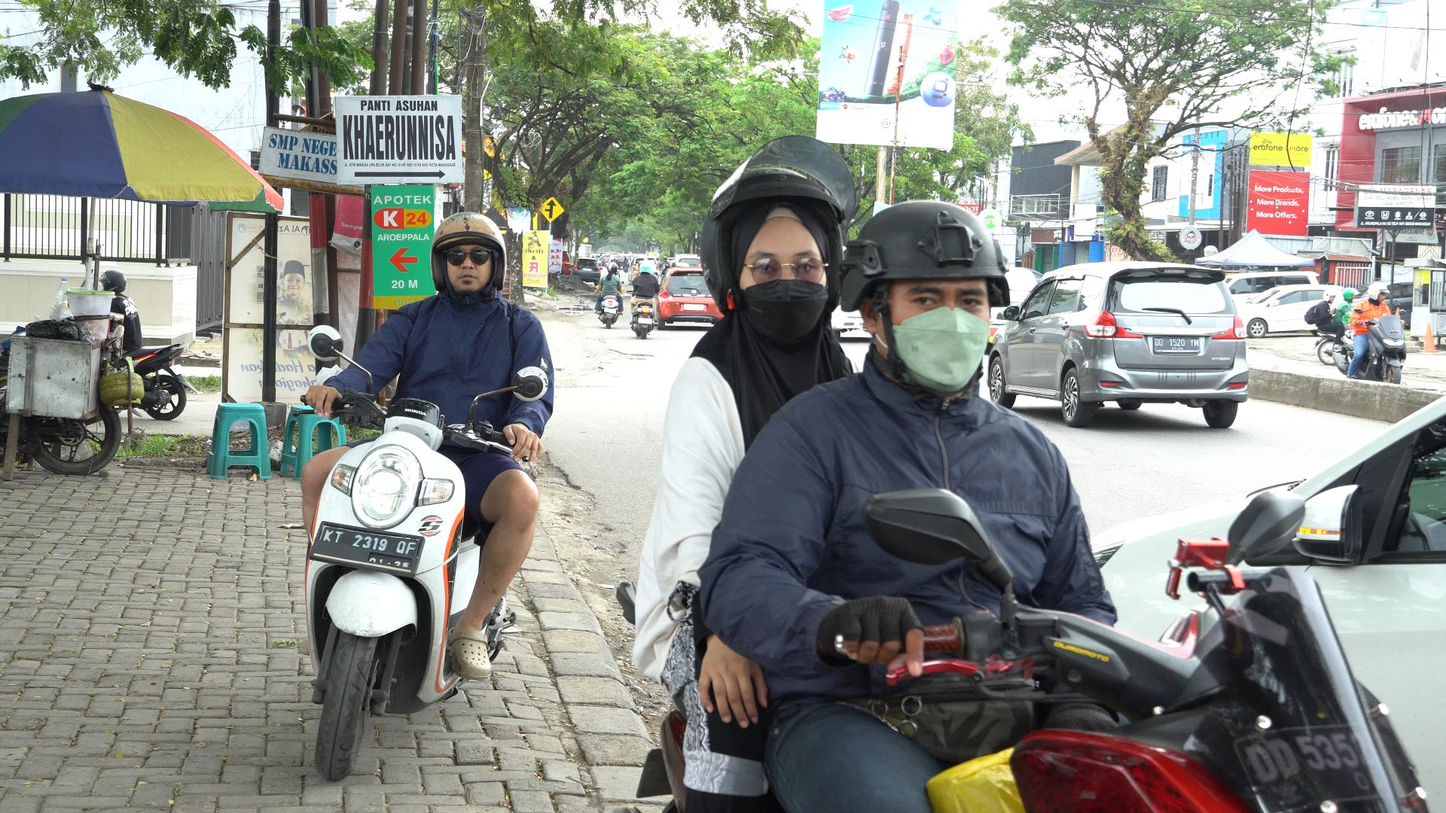number-plate: (1236, 723, 1431, 809), (309, 521, 423, 579)
